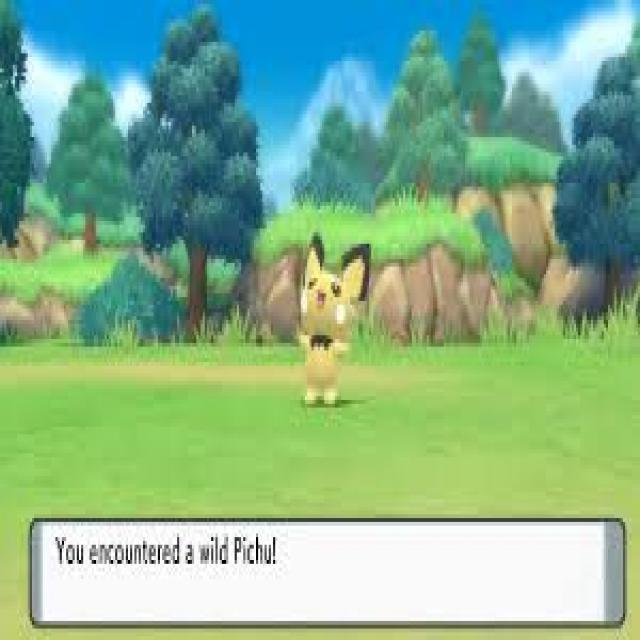pichu: (289, 236, 369, 408)
